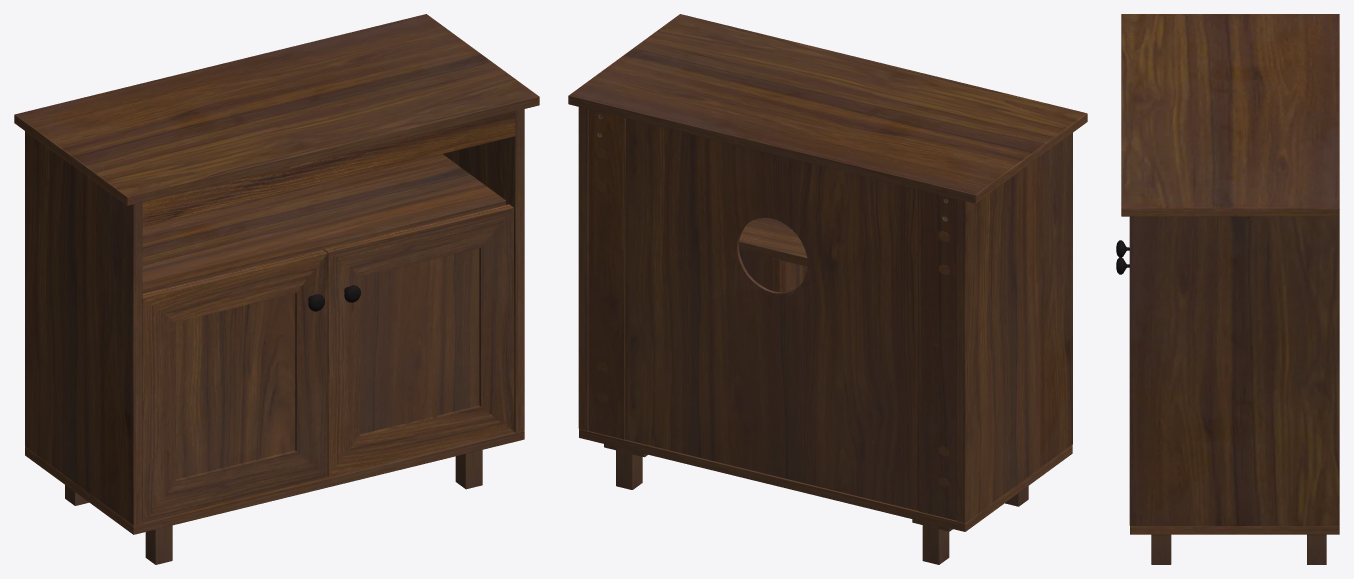
File: abo-B07DBB1SD2.glb
3 renders of one model, left to right at view 1: azimuth 30°, elevation 25°; view 2: azimuth 150°, elevation 25°; view 3: azimuth 270°, elevation 25°, orthographic. The views are drawn at different scales.
Size of the model in its own units: 0.802 by 0.725 by 0.39.
Materials: 1 (1 with a texture image).
